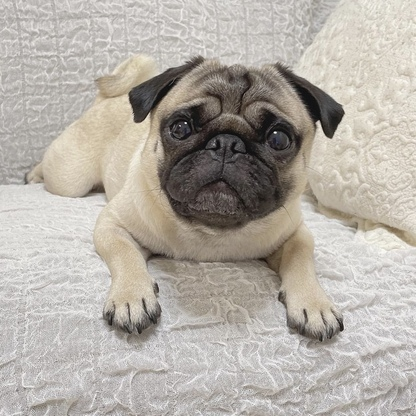Pug: (19, 47, 349, 347)
